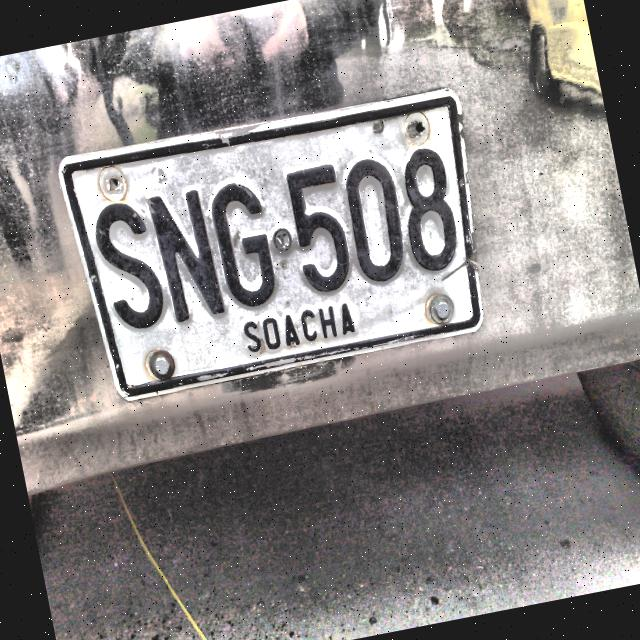0: (336, 149, 416, 292)
5: (282, 160, 360, 299)
8: (392, 144, 468, 280)
G: (204, 176, 286, 318)
N: (145, 182, 230, 332)
S: (83, 198, 173, 340)
